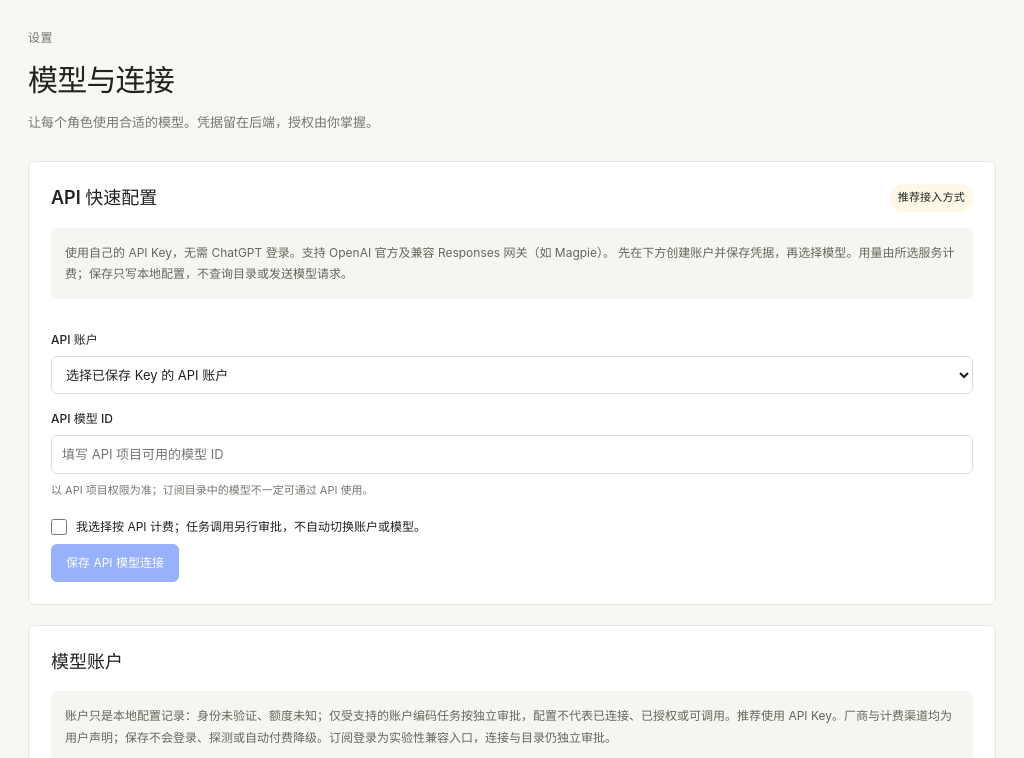
Test: reconciles a lost profile save by reading only, never automatically replaying
Select "My API · 凭据版本 1" in the dropdown labelled "API 账户" at (512, 375), box [51, 356, 973, 394]
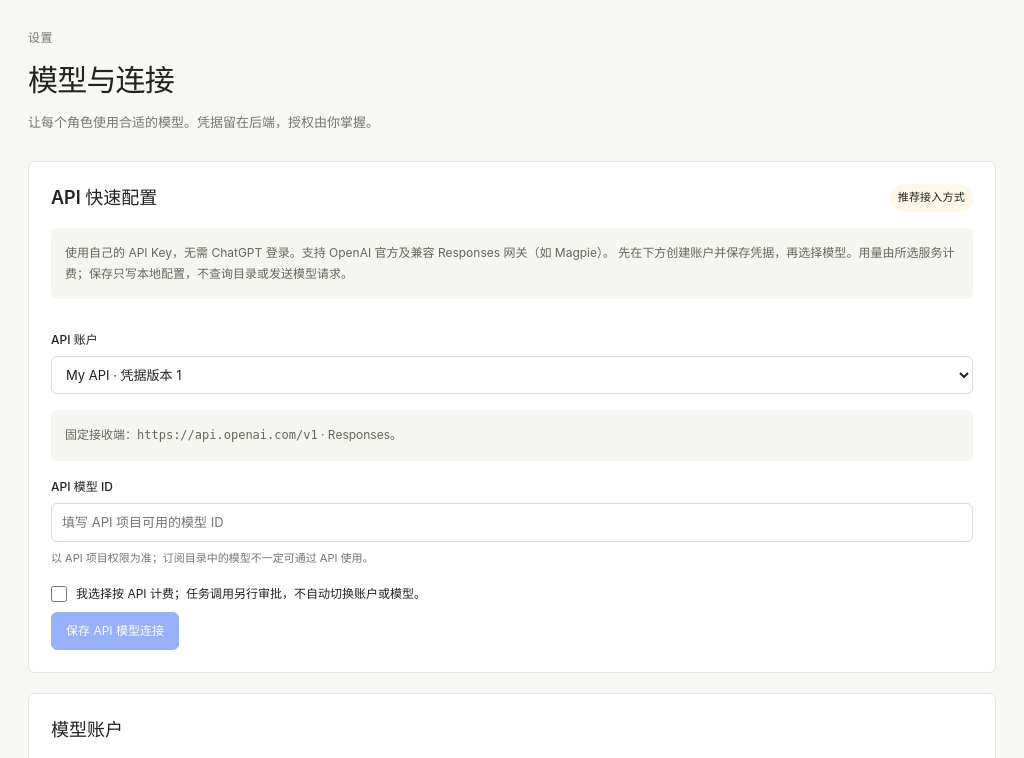
Type "approved-api-model" into the field labelled "API 模型 ID".
click(512, 522); type("approved-api-model")  # box [51, 503, 973, 542]
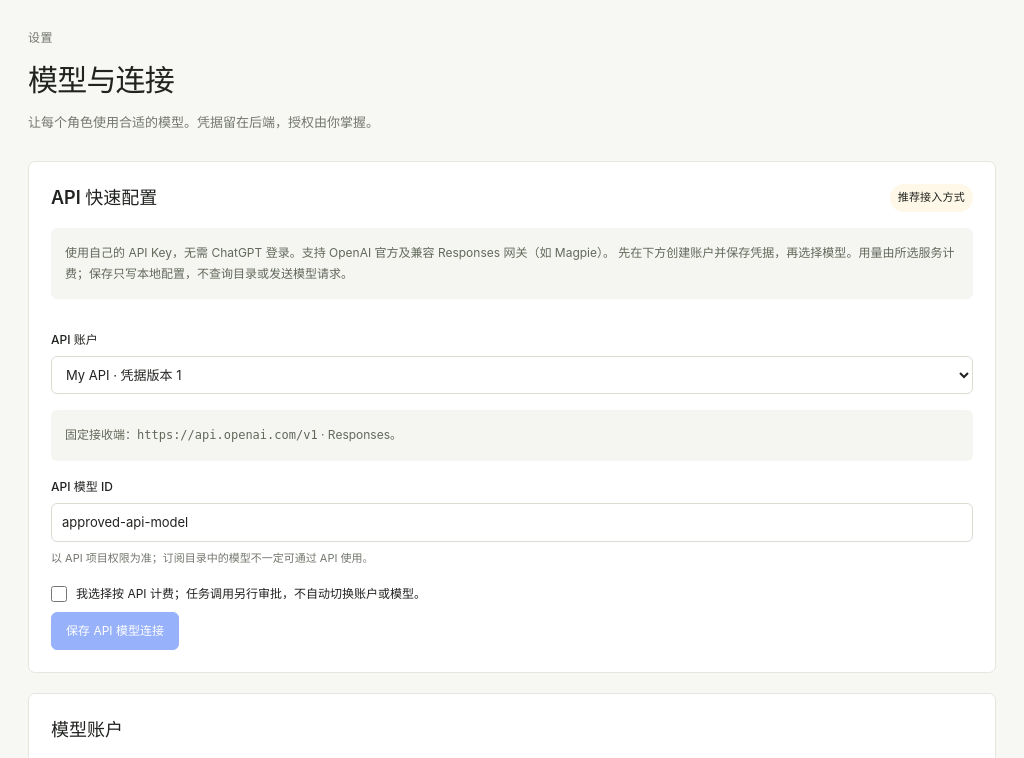
Click the checkbox labelled "我选择按 API 计费；任务调用另行审批，不自动切换账户或模型。".
click(59, 594)  # box [51, 586, 67, 602]
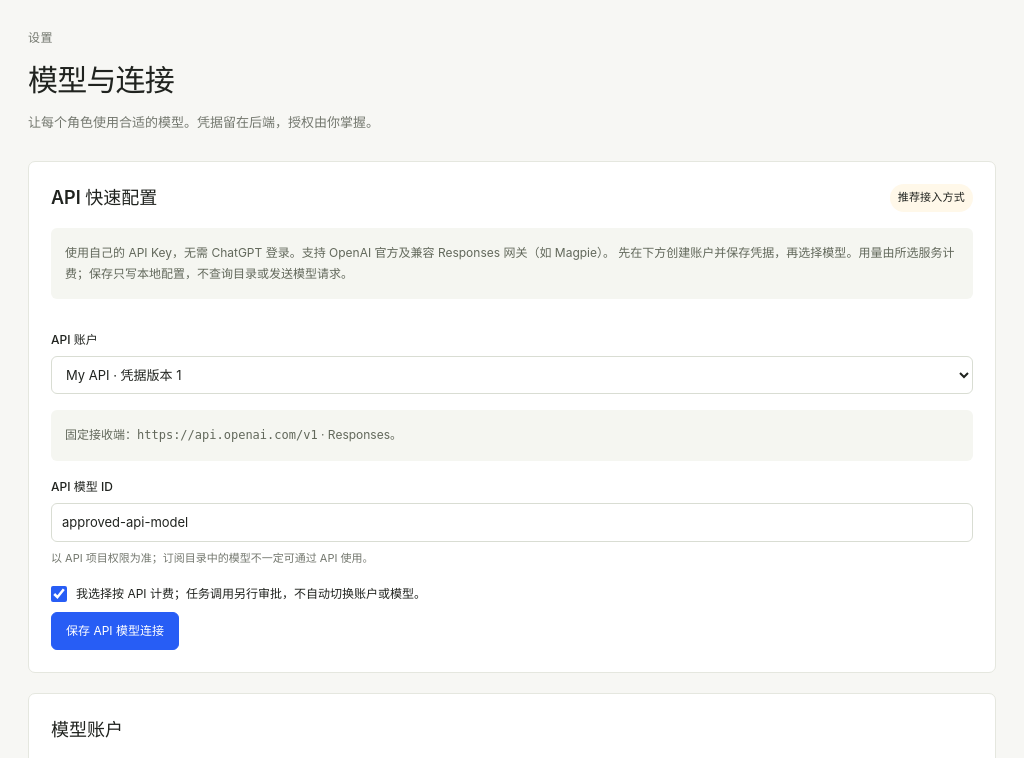
Click the button "保存 API 模型连接".
click(115, 631)  # box [51, 612, 179, 650]
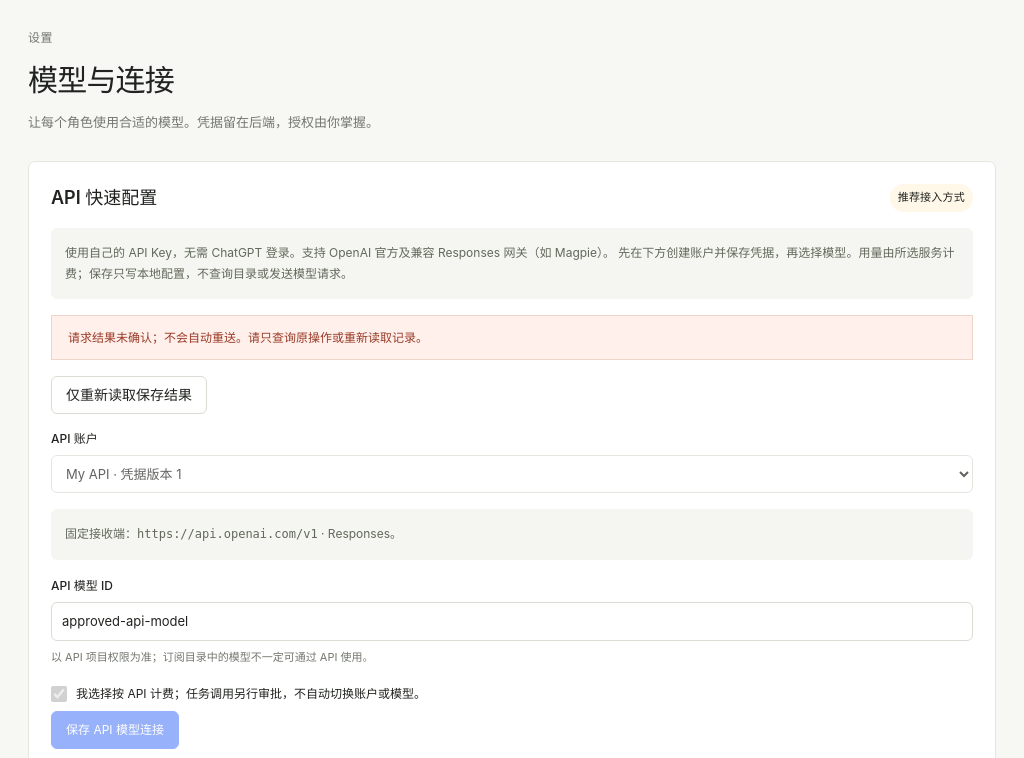
Now the button "保存 API 模型连接" is disabled, box [51, 711, 179, 749]
Now the button "仅重新读取保存结果" is enabled
Click the button "仅重新读取保存结果".
click(129, 395)  # box [51, 376, 207, 414]
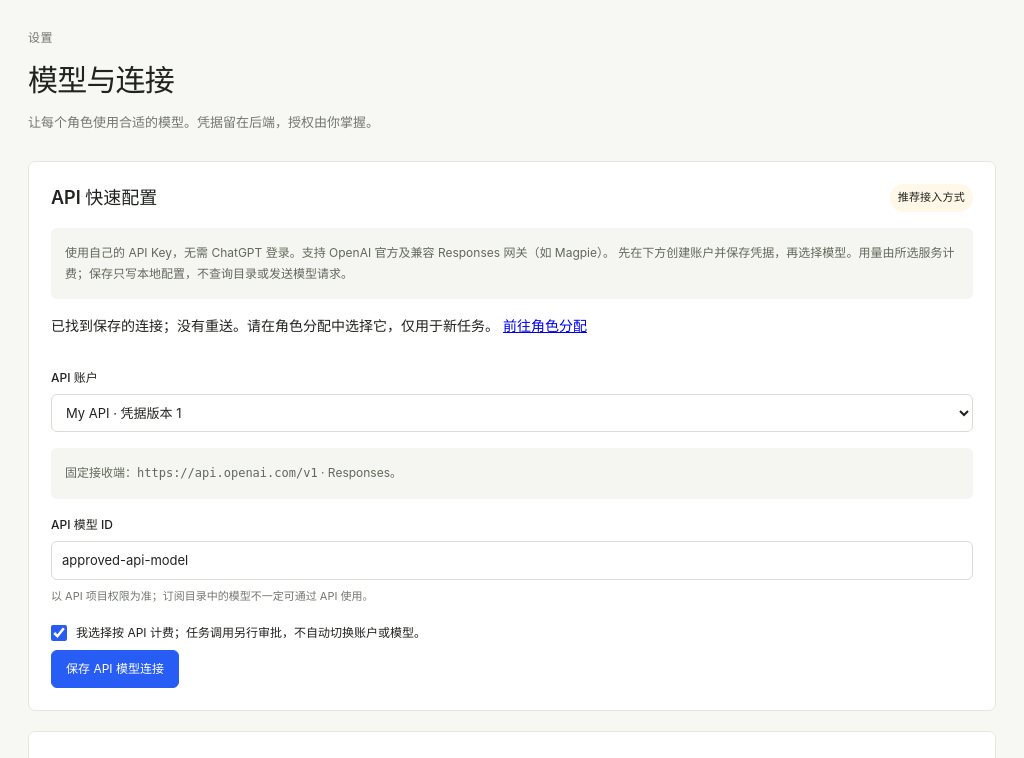
Now the button "仅重新读取保存结果" is gone
Now the message shows "已找到保存的连接", box [51, 317, 499, 334]
